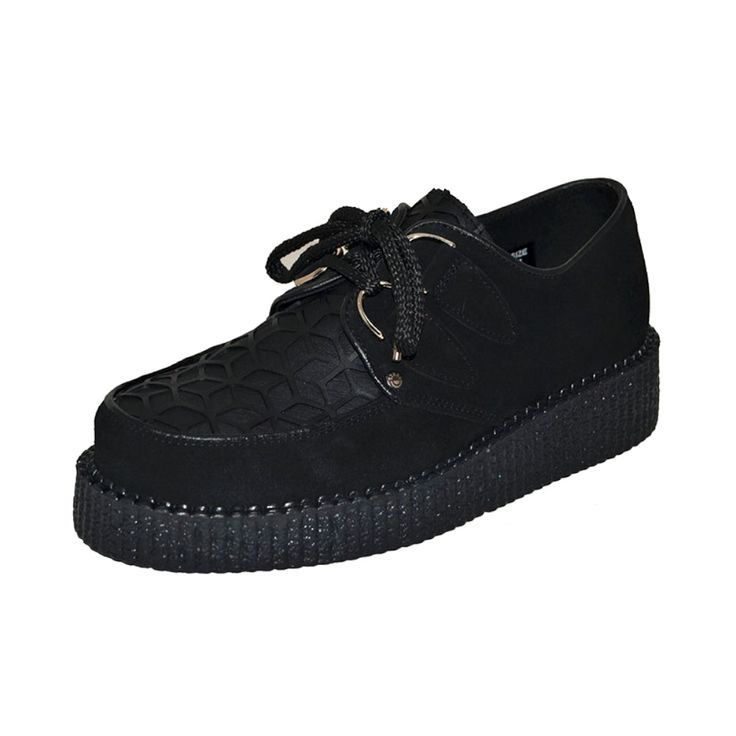gamuza: (94, 178, 651, 509)
